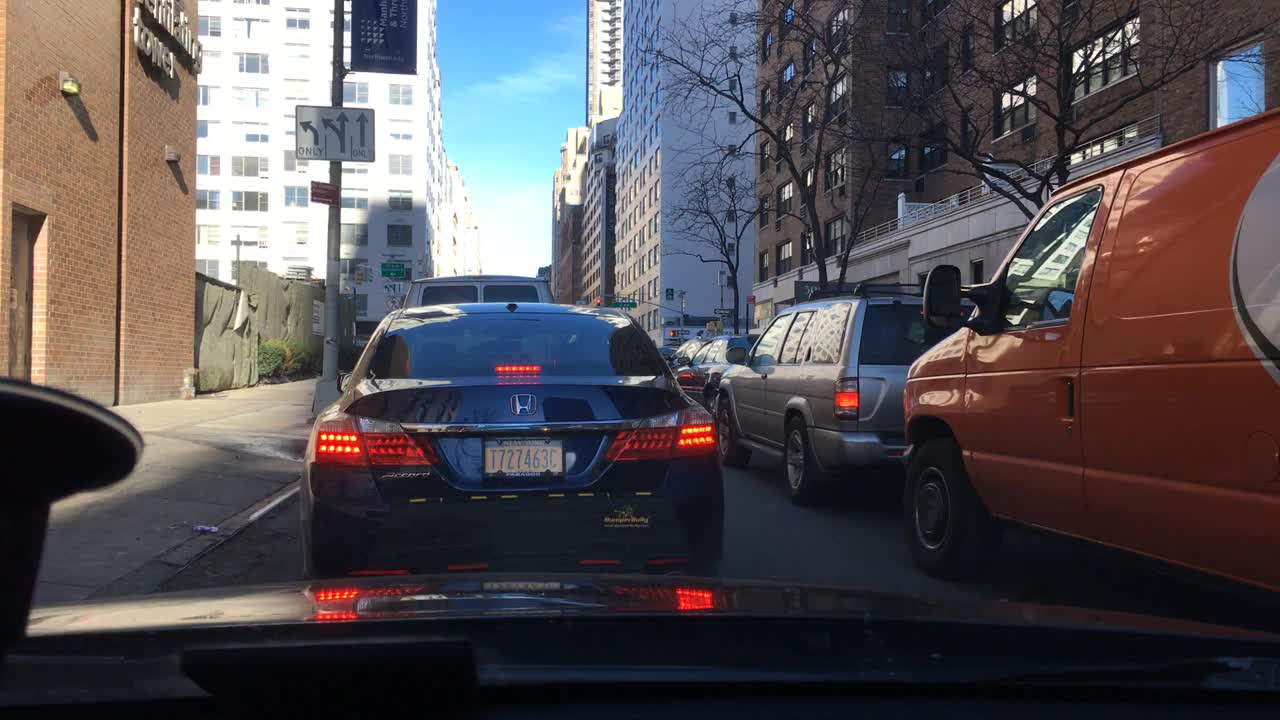car: (893, 107, 1279, 604), (296, 300, 724, 586), (708, 281, 975, 505), (670, 329, 761, 408), (401, 274, 557, 315), (667, 338, 711, 376), (660, 345, 677, 363)
traffic light: (716, 319, 726, 331), (593, 294, 602, 306), (706, 321, 714, 331), (668, 328, 672, 339)
traffic sign: (291, 104, 375, 162), (306, 179, 341, 205), (380, 260, 406, 280), (380, 280, 409, 295), (354, 260, 370, 281), (711, 306, 736, 318), (381, 296, 400, 311), (606, 301, 638, 308), (678, 328, 691, 338)
